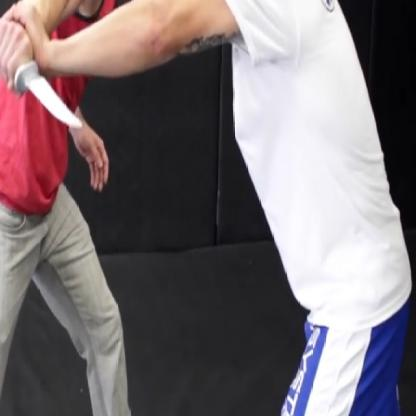knife: (0, 22, 91, 141)
